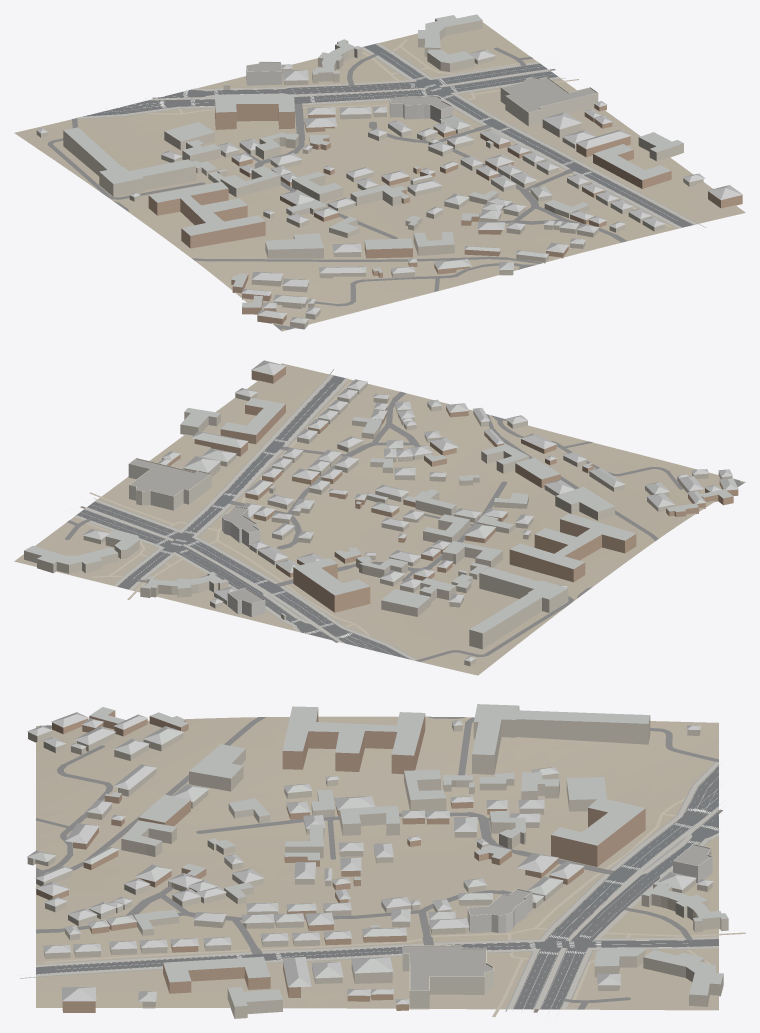
File: bolak_-2_-4.glb
3 renders of one model, top to bottom at view 1: azimuth 30°, elevation 25°; view 2: azimuth 150°, elevation 25°; view 3: azimuth 270°, elevation 25°, orthographic. The views are drawn at different scales.
Parts seen in each view (by area): view 1: Yer_Tuproq-col, Tom_Shifer, Devor_Suvoq-col, Devor_Gisht-col, Yol_Asfalt-col, Yol_Mahalla-col, Trotuar, Tom_Tekis, Devor_Dokon-col, Devor_Jamoat-col, Yol_Chiziq, Ariq (+1 smaller); view 2: Yer_Tuproq-col, Tom_Shifer, Devor_Suvoq-col, Devor_Gisht-col, Yol_Asfalt-col, Trotuar, Yol_Mahalla-col, Tom_Tekis, Devor_Jamoat-col, Devor_Dokon-col, Yol_Piyoda, Yol_Chiziq (+1 smaller); view 3: Yer_Tuproq-col, Tom_Shifer, Devor_Suvoq-col, Yol_Asfalt-col, Devor_Gisht-col, Yol_Mahalla-col, Trotuar, Tom_Tekis, Yol_Piyoda, Yol_Chiziq, Devor_Dokon-col, Devor_Jamoat-col (+1 smaller).
Boxes of the visible parts, x1,y1,x2,y2 form: Yer_Tuproq-col: [14, 22, 745, 331]; Tom_Shifer: [36, 14, 742, 323]; Devor_Suvoq-col: [36, 19, 703, 329]; Devor_Gisht-col: [148, 102, 742, 324]; Yol_Asfalt-col: [83, 44, 693, 227]; Yol_Mahalla-col: [47, 47, 626, 330]; Trotuar: [77, 43, 697, 228]; Tom_Tekis: [247, 62, 596, 112]; Devor_Dokon-col: [246, 61, 452, 123]; Devor_Jamoat-col: [500, 76, 598, 126]; Yol_Chiziq: [75, 53, 704, 230]; Ariq: [78, 50, 706, 227]; Yer_Tuproq-col: [14, 363, 745, 675]; Tom_Shifer: [24, 360, 738, 661]; Devor_Suvoq-col: [24, 382, 732, 666]; Devor_Gisht-col: [162, 366, 738, 612]; Yol_Asfalt-col: [76, 375, 410, 659]; Trotuar: [74, 374, 416, 660]; Yol_Mahalla-col: [65, 391, 744, 661]; Tom_Tekis: [130, 459, 263, 603]; Devor_Jamoat-col: [128, 458, 211, 510]; Devor_Dokon-col: [222, 506, 265, 617]; Yol_Piyoda: [85, 382, 378, 642]; Yol_Chiziq: [69, 370, 413, 661]; Yer_Tuproq-col: [36, 716, 718, 1010]; Tom_Shifer: [27, 704, 728, 1006]; Devor_Suvoq-col: [27, 706, 728, 1018]; Yol_Asfalt-col: [36, 765, 718, 1009]; Devor_Gisht-col: [36, 709, 645, 1012]; Yol_Mahalla-col: [36, 716, 718, 1009]; Trotuar: [36, 761, 718, 1009]; Tom_Tekis: [403, 845, 710, 990]; Yol_Piyoda: [44, 798, 745, 1016]; Yol_Chiziq: [17, 763, 726, 1016]; Devor_Dokon-col: [467, 844, 712, 933]; Devor_Jamoat-col: [402, 945, 493, 1009].
Size of what is drawn, in the model's own units: 426 by 16.77 by 429.
